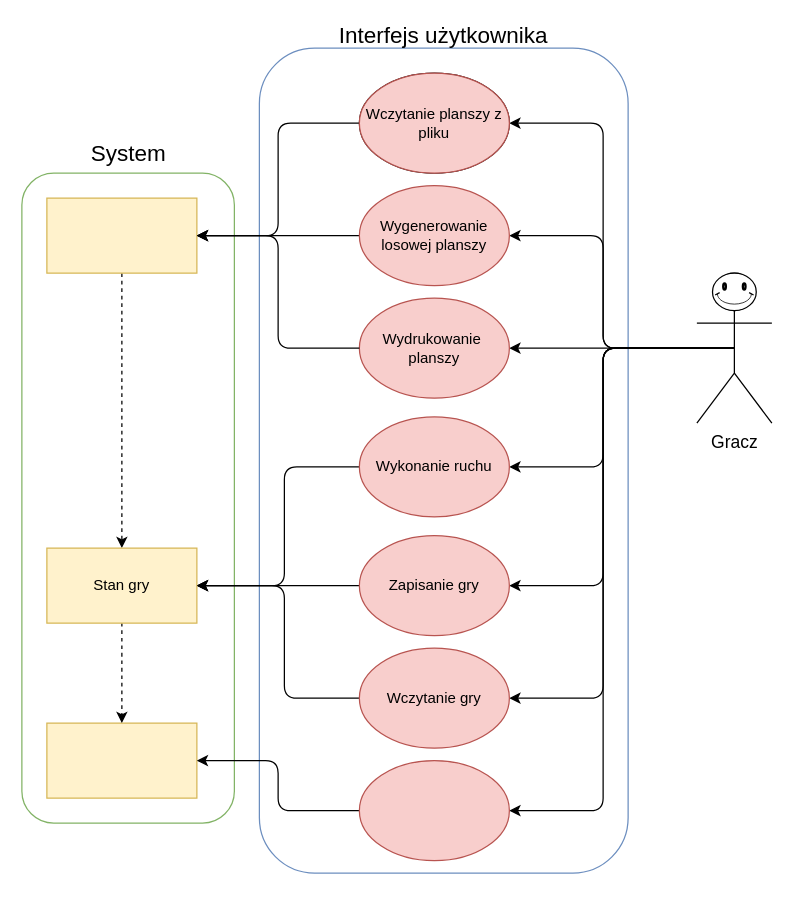
Image size: 794x905. Some labels were removed from this diagram. The centre of each missing label's shape, as x and y in pixels:
"Generator plansz" goes at point (121, 235).
"Weryfikacja poprawności rozwiązania" goes at point (121, 760).
"Zwrócenie rozwiązania" goes at point (433, 810).
